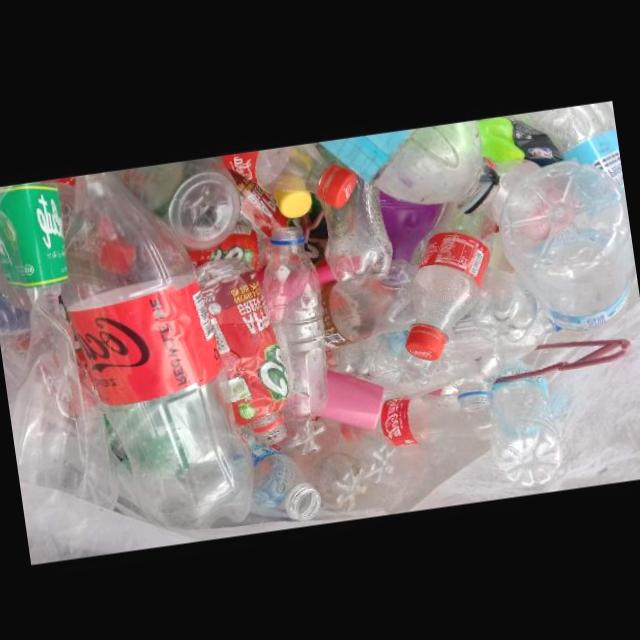chai_nhua_pet: (61, 171, 254, 530), (499, 160, 631, 333), (193, 257, 290, 446), (319, 120, 501, 215), (405, 202, 498, 362), (264, 226, 328, 421), (120, 156, 241, 250), (504, 102, 626, 195), (222, 143, 357, 209), (322, 260, 416, 351), (489, 376, 565, 488), (320, 175, 393, 286), (470, 244, 538, 343), (439, 313, 506, 413), (378, 395, 493, 447), (252, 442, 322, 522), (312, 417, 396, 483), (289, 452, 368, 512)
